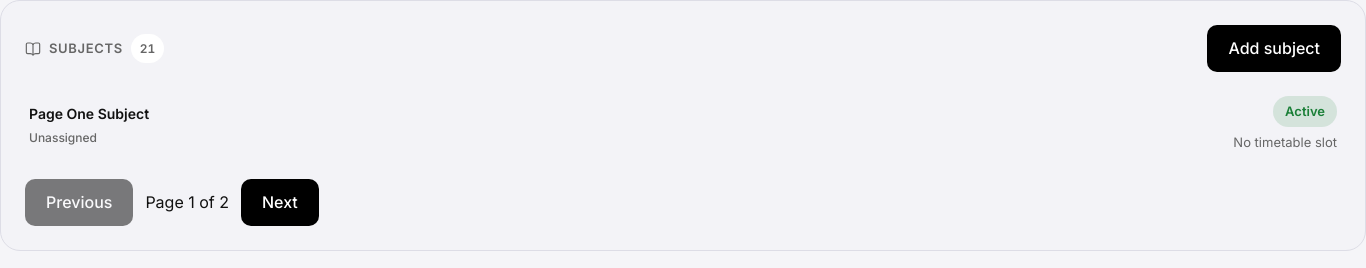
Test: SubjectsListPage › shows Previous/Next controls once there is more than one page
Expected: the text "Page One Subject" is shown, [29,102,149,125]
Expected: the text "Page 1 of 2" is shown, [145,191,229,214]
Click the button "Next" at (280, 202), box [241,179,319,226]
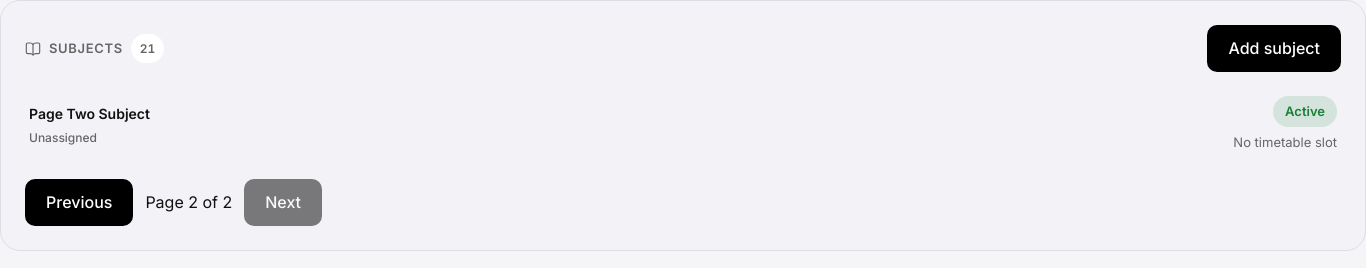
Expected: the text "Page Two Subject" is shown, [29,102,150,125]
Expected: the text "Page 2 of 2" is shown, [145,191,232,214]
Expected: the button "Next" is disabled, [244,179,322,226]
